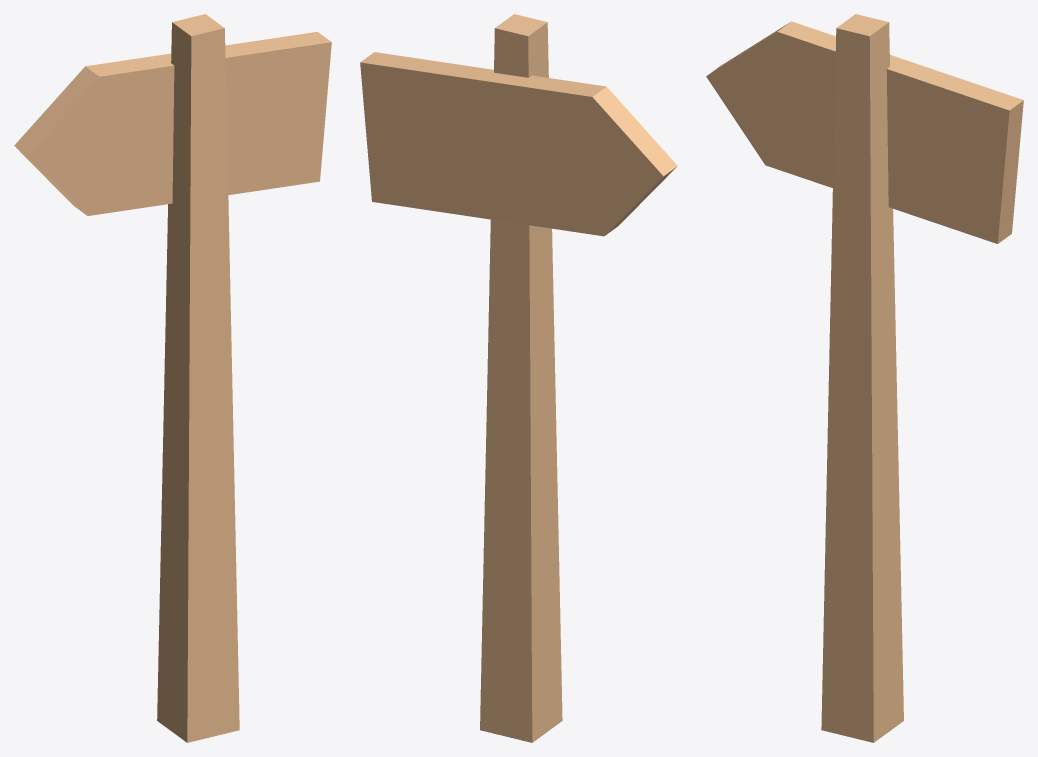
The picture shows the model from 3 angles, left to right: view 1: azimuth 30°, elevation 25°; view 2: azimuth 150°, elevation 25°; view 3: azimuth 330°, elevation 25°; orthographic projection.
Visible parts, largest first — view 1: signpostSingle; view 2: signpostSingle; view 3: signpostSingle.
Part boxes in pixels (left/top/right/bottom): signpostSingle: left=14, top=14, right=331, bottom=742; signpostSingle: left=360, top=14, right=677, bottom=742; signpostSingle: left=706, top=14, right=1023, bottom=742.
Size of the model in its own units: 0.2086 by 0.4601 by 0.043.
